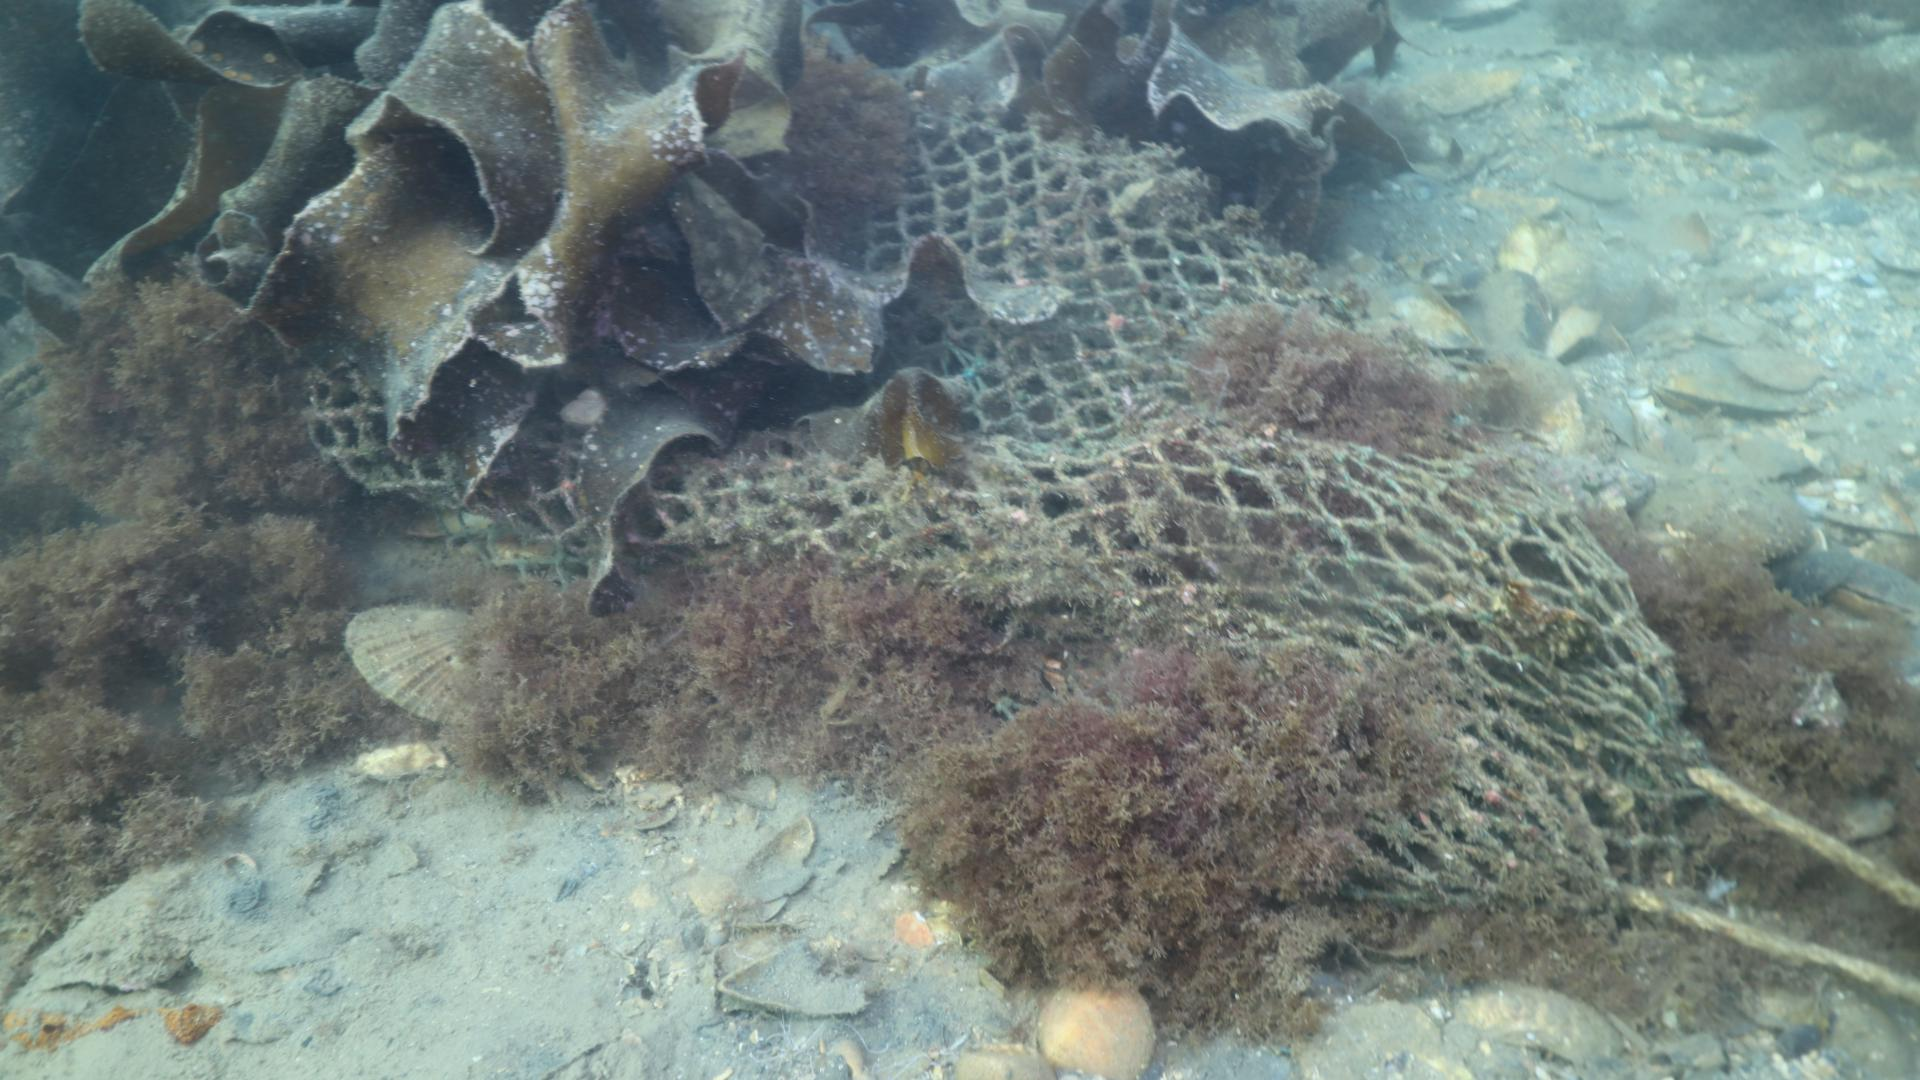fish net: (301, 117, 1659, 847)
